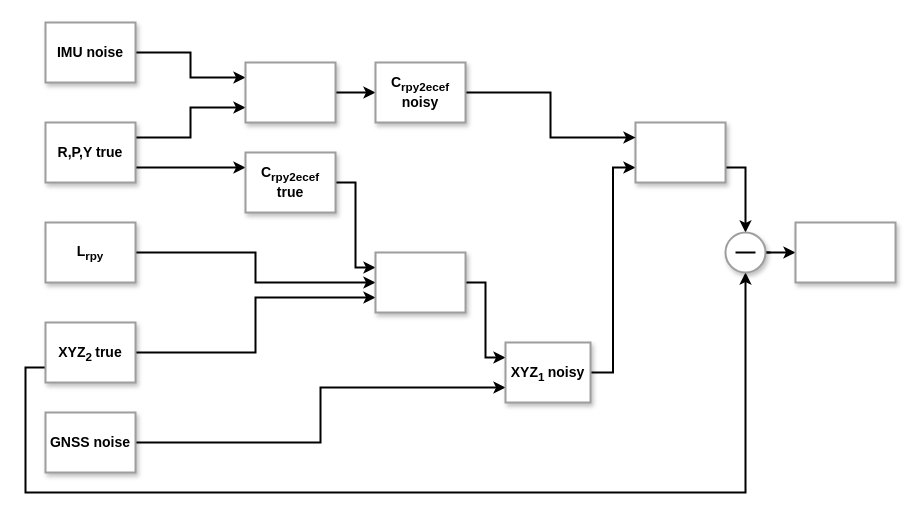
Image size: 919x518. Some labels were removed from this diagram. The centre of each missing label's shape, as x and y in pixels:
"R,P,Y noisy" belongs at (291,93).
"XYZ 1 true" belongs at (421,283).
"XYZ 2 error" belongs at (846,253).
"XYZ 2 noisy" belongs at (681,153).
